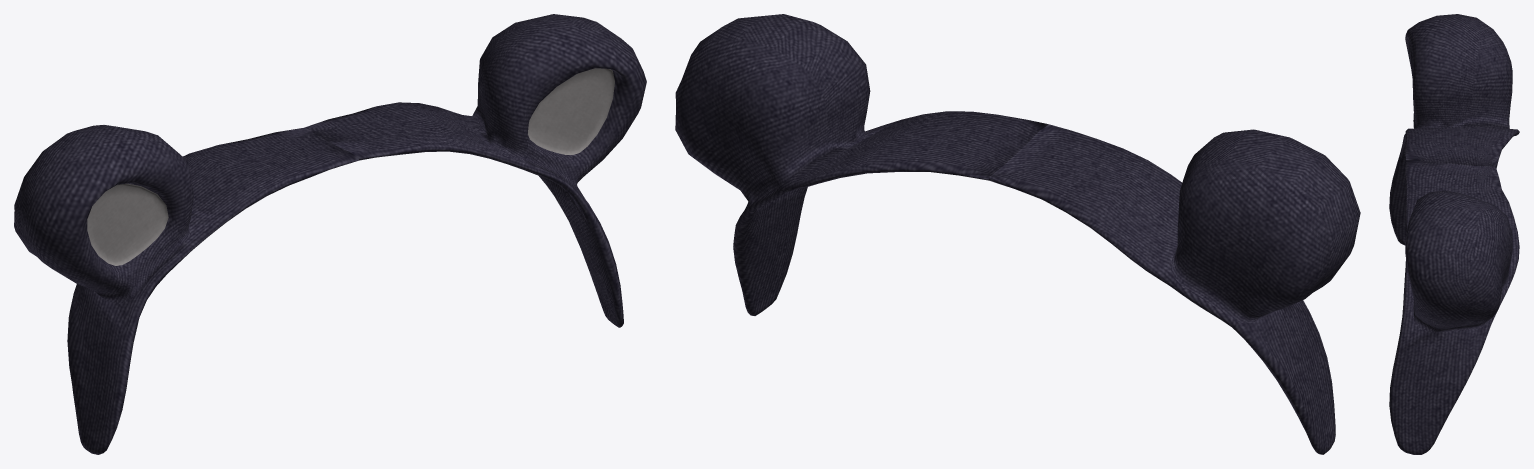
The model's file is Bear_Hat.glb.
The picture shows the model from 3 angles, left to right: view 1: azimuth 30°, elevation 25°; view 2: azimuth 150°, elevation 25°; view 3: azimuth 270°, elevation 25°; orthographic projection. The views are drawn at different scales.
Visible parts, largest first — view 1: Bear_Hat; view 2: Bear_Hat; view 3: Bear_Hat.
Boxes of the visible parts, left/top/right/bottom form: Bear_Hat: left=14, top=14, right=646, bottom=454; Bear_Hat: left=675, top=14, right=1360, bottom=454; Bear_Hat: left=1389, top=14, right=1519, bottom=454.
Size of the model in its own units: 1.06 by 0.488 by 0.2412.
2 materials, 2 textured.
